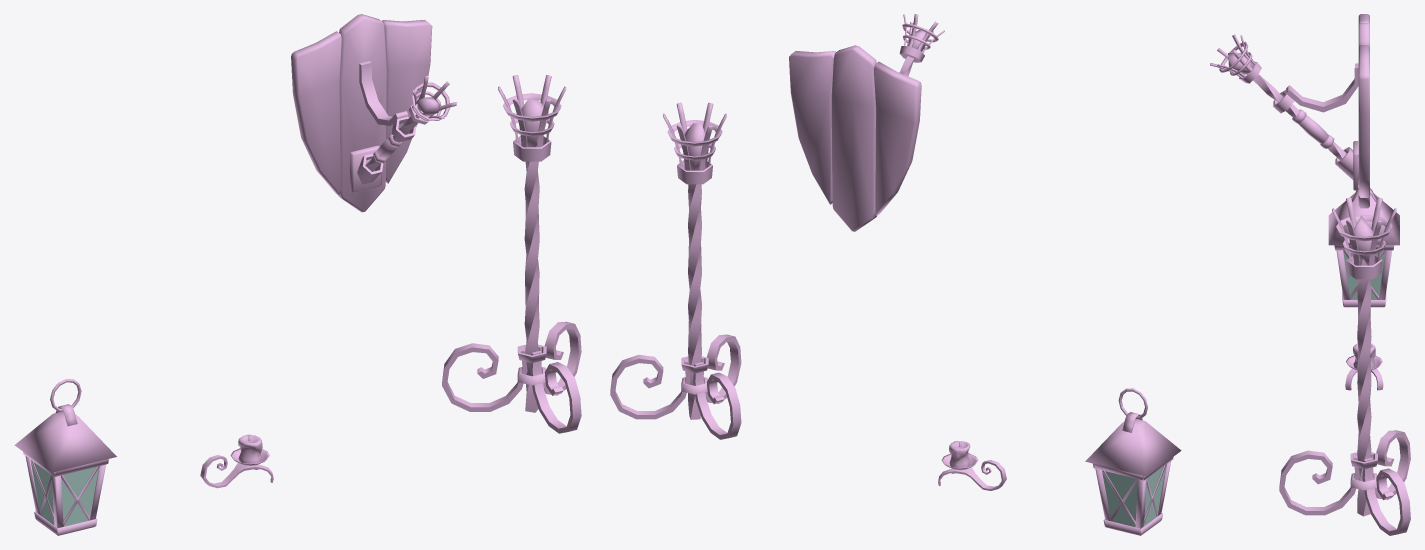
Rendered from DungeonProps04.fbx.
The picture shows the model from 3 angles, left to right: view 1: azimuth 30°, elevation 25°; view 2: azimuth 150°, elevation 25°; view 3: azimuth 270°, elevation 25°; orthographic projection. The views are drawn at different scales.
Visible parts, largest first — view 1: MountedTorch_Geo, StandingTorch01_Geo, Lantern01_Geo, CandleHolder01_Geo, LanternGlass02_Geo, LanternGlass04_Geo; view 2: MountedTorch_Geo, StandingTorch01_Geo, Lantern01_Geo, CandleHolder01_Geo, LanternGlass03_Geo, LanternGlass04_Geo; view 3: StandingTorch01_Geo, MountedTorch_Geo, Lantern01_Geo, CandleHolder01_Geo, LanternGlass01_Geo.
Boxes of the visible parts, x1,y1,x2,y2 form: MountedTorch_Geo: [291, 14, 457, 212]; StandingTorch01_Geo: [442, 75, 581, 433]; Lantern01_Geo: [14, 404, 116, 535]; CandleHolder01_Geo: [200, 434, 273, 488]; LanternGlass02_Geo: [61, 467, 98, 526]; LanternGlass04_Geo: [30, 461, 54, 525]; MountedTorch_Geo: [789, 14, 944, 231]; StandingTorch01_Geo: [610, 102, 741, 439]; Lantern01_Geo: [1085, 412, 1181, 535]; CandleHolder01_Geo: [938, 441, 1006, 490]; LanternGlass03_Geo: [1102, 471, 1137, 526]; LanternGlass04_Geo: [1144, 466, 1166, 525]; StandingTorch01_Geo: [1279, 197, 1410, 535]; MountedTorch_Geo: [1210, 14, 1369, 208]; Lantern01_Geo: [1328, 188, 1399, 307]; CandleHolder01_Geo: [1345, 343, 1383, 390]; LanternGlass01_Geo: [1343, 250, 1385, 299].
Size of what is drawn, in the model's own units: 2.51 by 1.84 by 0.8127.
